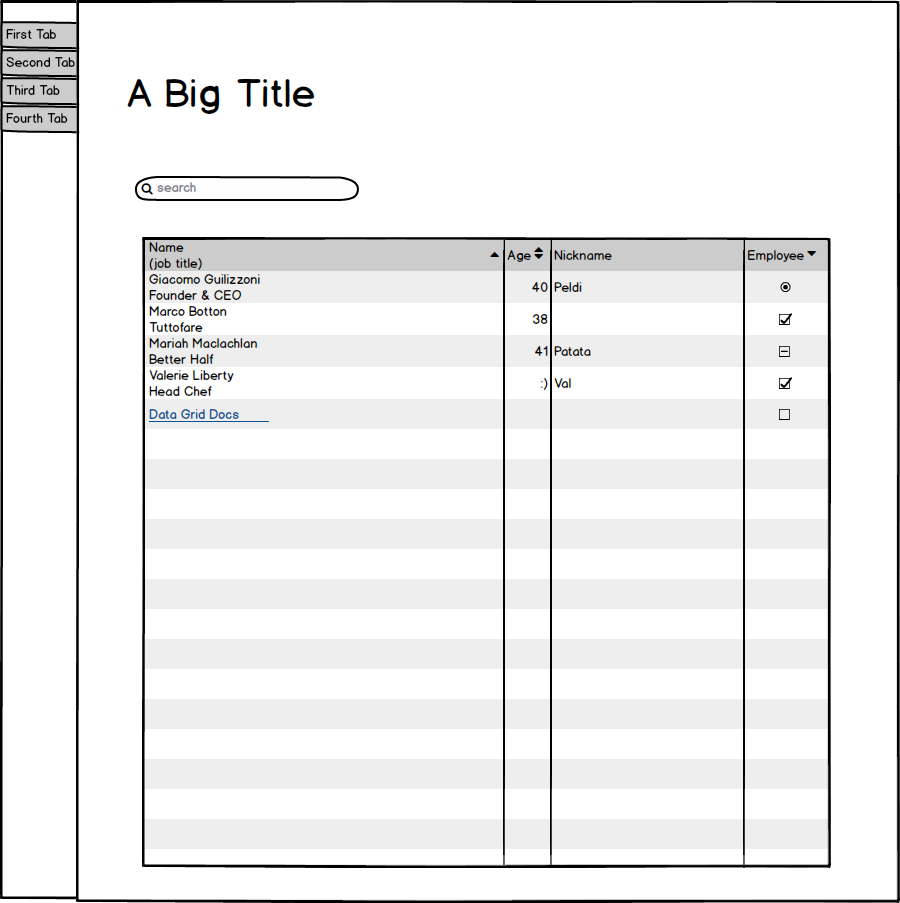h1: (126, 69, 322, 117)
search: (123, 169, 364, 209)
sidebar: (1, 18, 83, 138)
table: (133, 232, 842, 873)
